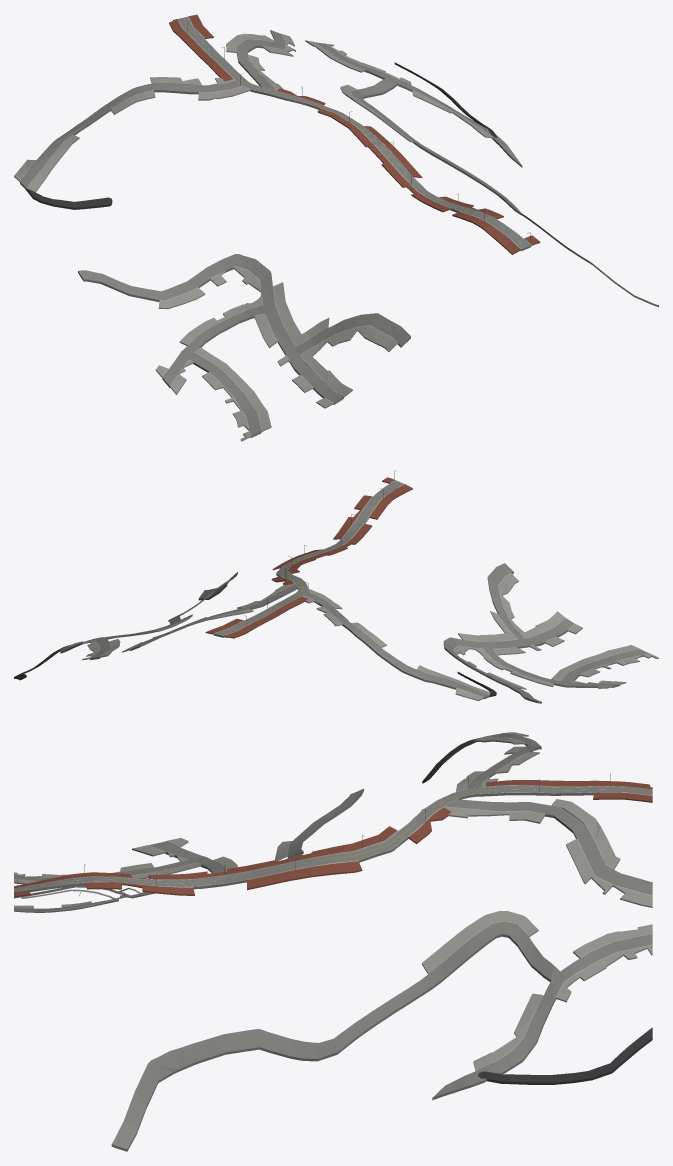
Rendered from 17-109441-59483.82daae24.glb.
3 renders of one model, top to bottom at view 1: azimuth 30°, elevation 25°; view 2: azimuth 150°, elevation 25°; view 3: azimuth 270°, elevation 25°, orthographic. The views are drawn at different scales.
Bounding box in the file's own units: 293 × 116 × 295.
